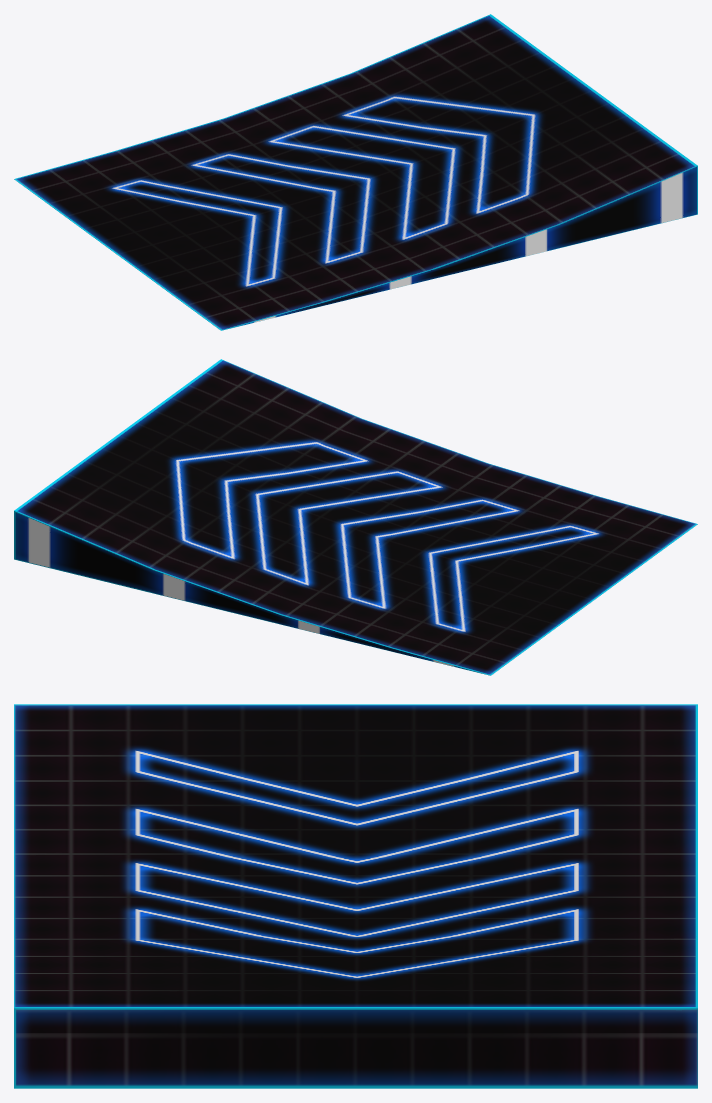
The model's file is Ramp Curve.fbx.
The picture shows the model from 3 angles, top to bottom: view 1: azimuth 30°, elevation 25°; view 2: azimuth 150°, elevation 25°; view 3: azimuth 270°, elevation 25°; orthographic projection. The views are drawn at different scales.
Visible parts, largest first — view 1: pCube3; view 2: pCube3; view 3: pCube3.
Part boxes in pixels (left/top/right/bottom): pCube3: left=14, top=14, right=697, bottom=330; pCube3: left=14, top=359, right=697, bottom=675; pCube3: left=14, top=704, right=697, bottom=1088.
Bounding box in the file's own units: 109 × 10.67 × 82.19.
Materials: 1 (1 with a texture image).
